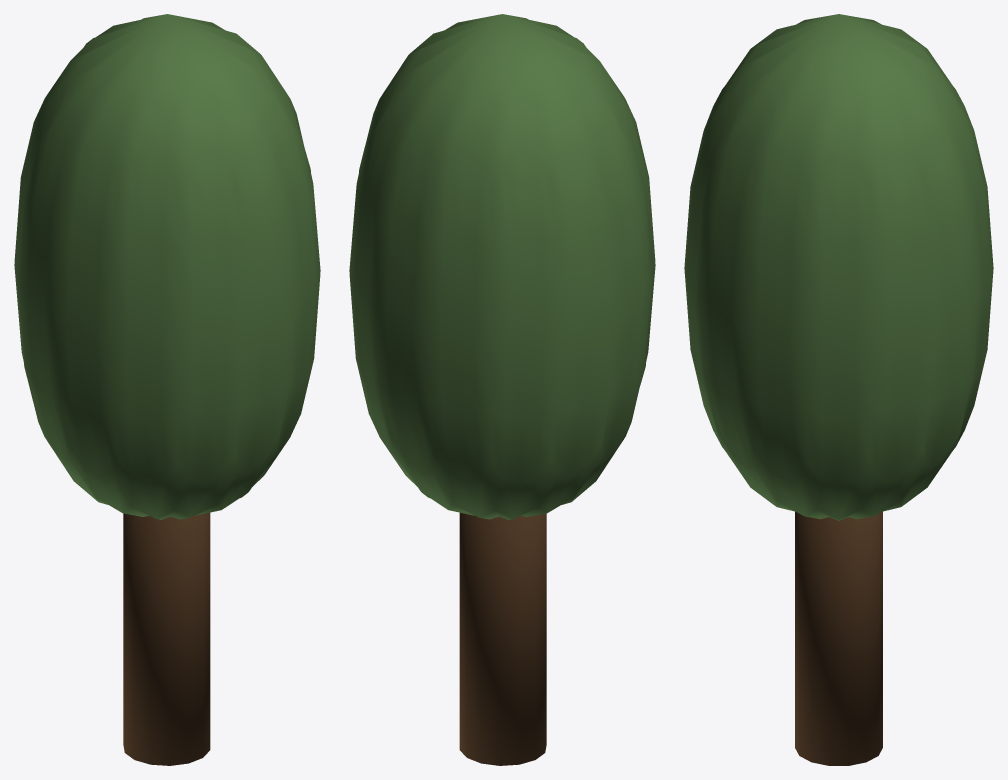
The model's file is Tree1.fbx.
The picture shows the model from 3 angles, left to right: view 1: azimuth 30°, elevation 25°; view 2: azimuth 150°, elevation 25°; view 3: azimuth 270°, elevation 25°; orthographic projection.
Visible parts, largest first — view 1: Tree 1; view 2: Tree 1; view 3: Tree 1.
Part boxes in pixels (x1,y1,x2,y2): Tree 1: (14,14,320,765); Tree 1: (349,14,655,765); Tree 1: (684,14,993,765).
Size of the model in its own units: 565 by 213 by 216.
